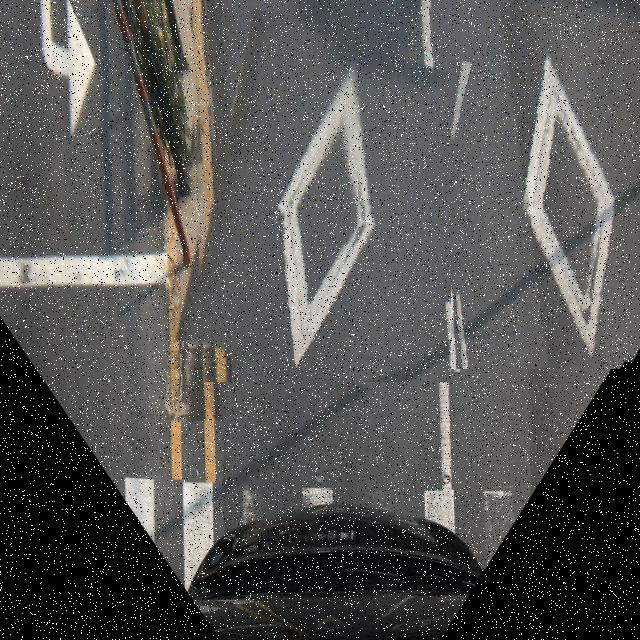diamond: (190, 19, 451, 382), (435, 0, 640, 369)
